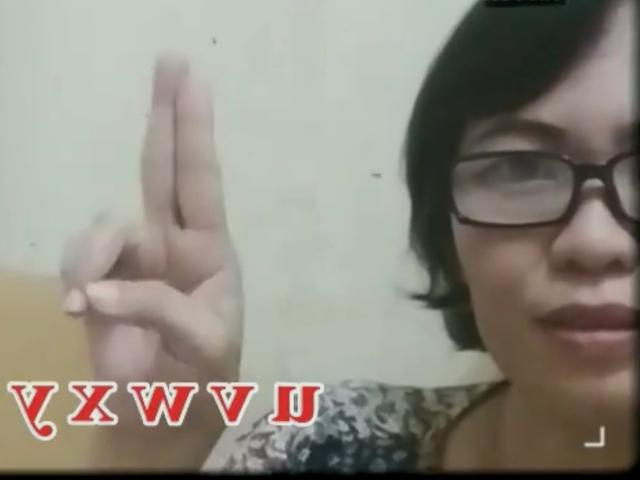U: (54, 47, 246, 378)
